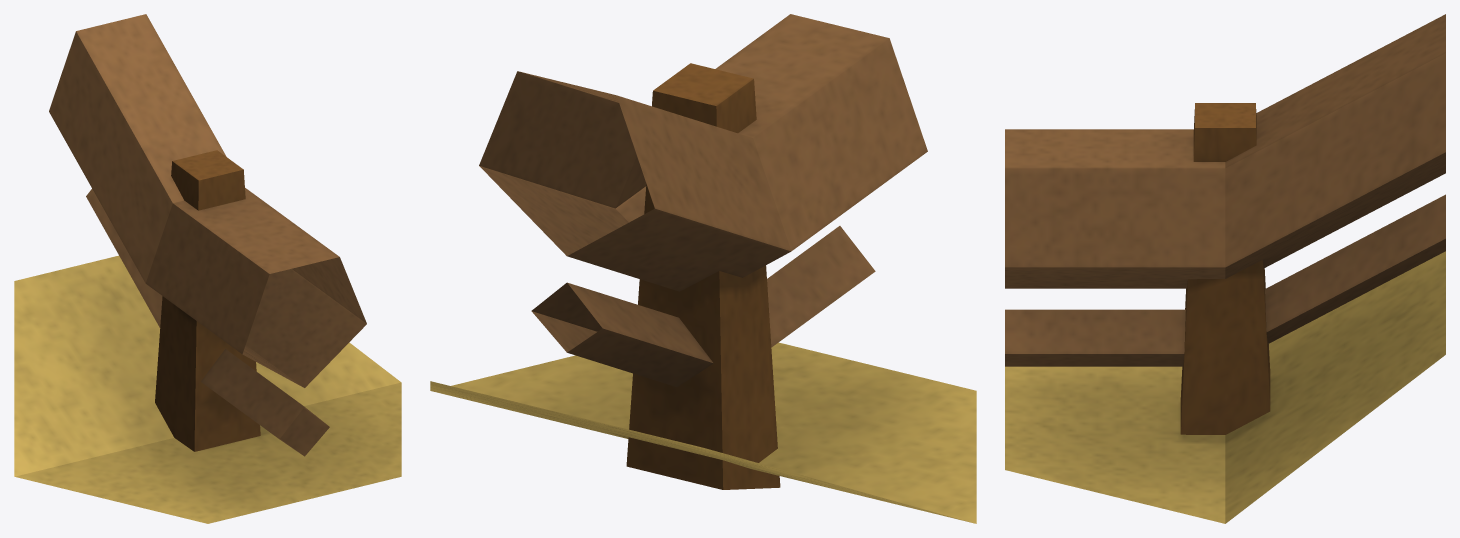
Rendered from BarriereDesert_PBC.FBX.
3 views of the same model, side by side, from view 1: azimuth 30°, elevation 25°; view 2: azimuth 150°, elevation 25°; view 3: azimuth 270°, elevation 25° (orthographic). The views are drawn at different scales.
Parts seen in each view (by area): view 1: BarriereDesert_PBC; view 2: BarriereDesert_PBC; view 3: BarriereDesert_PBC.
Part boxes in pixels (x1,y1,x2,y2): BarriereDesert_PBC: (14,14,401,523); BarriereDesert_PBC: (430,14,976,523); BarriereDesert_PBC: (1005,14,1445,523).
Bounding box in the file's own units: 1 × 0.899 × 0.8663.
